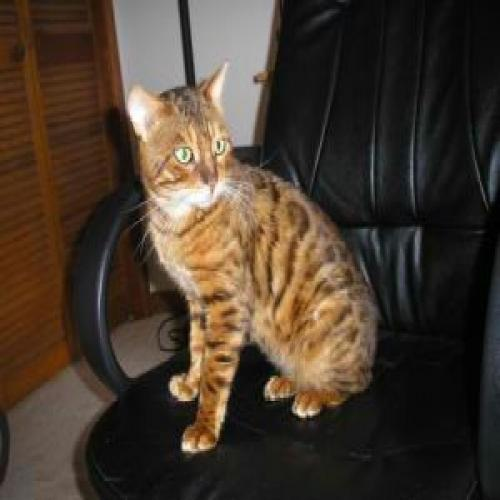bengal: (115, 61, 248, 222)
